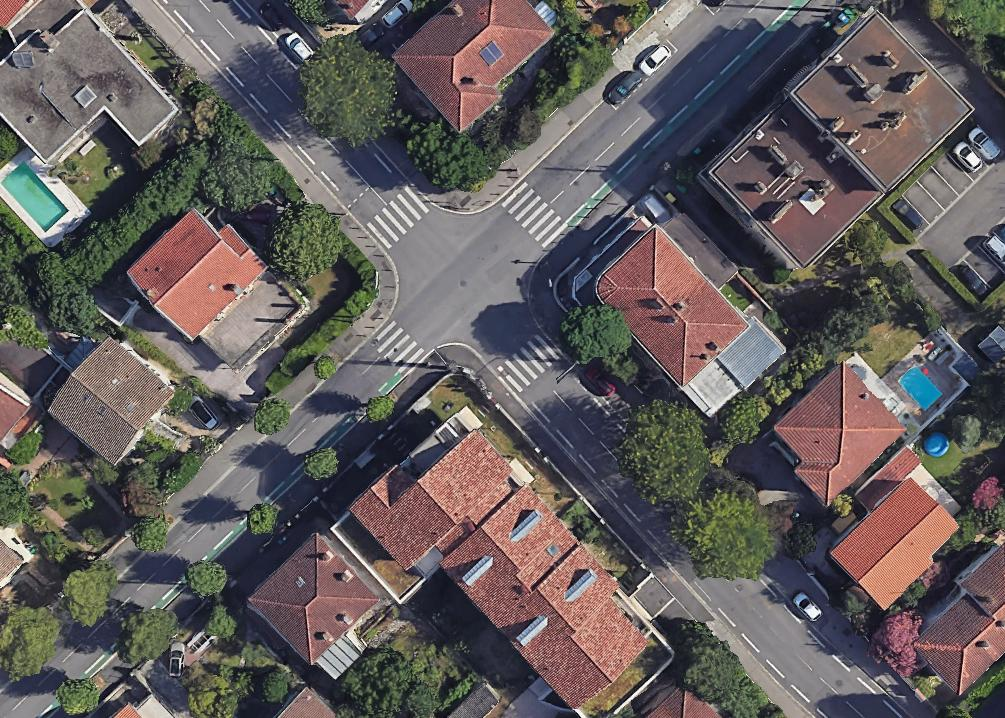immeuble: (694, 3, 975, 281), (0, 0, 181, 203)
maison: (347, 408, 665, 718), (587, 223, 750, 387), (389, 0, 562, 134), (122, 198, 270, 345), (761, 359, 908, 505), (41, 332, 179, 470), (242, 533, 380, 671), (828, 473, 965, 611), (903, 541, 1005, 697), (648, 688, 719, 717), (275, 687, 337, 717)
